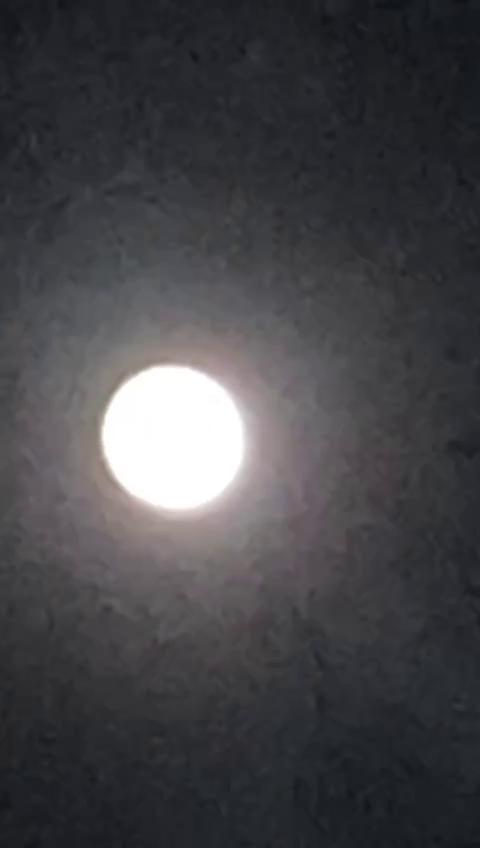moon: (70, 303, 243, 494)
